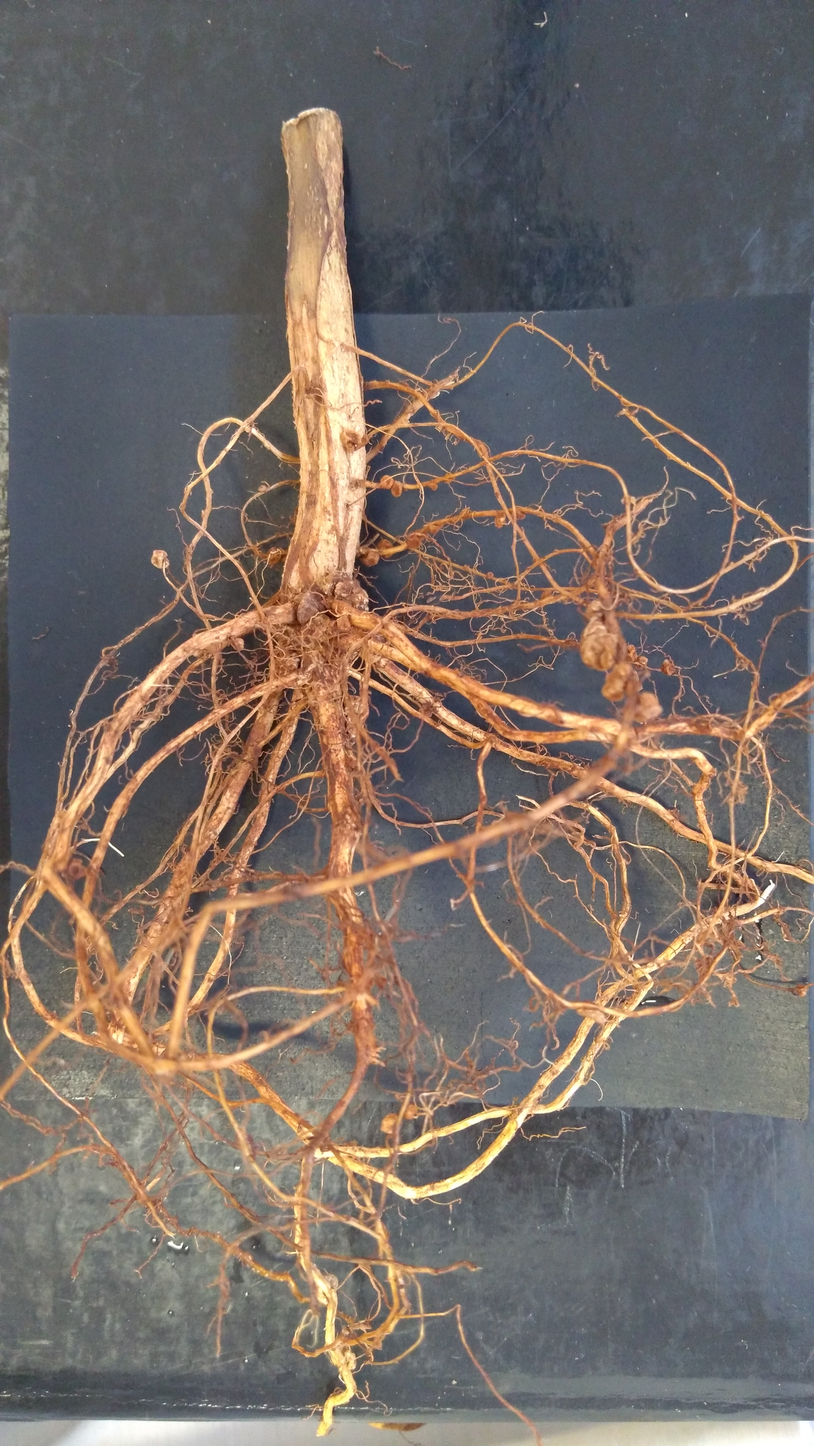nodule: (577, 631, 619, 672), (300, 649, 345, 686), (342, 692, 371, 739), (334, 578, 370, 615), (600, 661, 633, 701), (292, 591, 321, 624), (579, 616, 608, 647), (321, 569, 353, 597), (635, 691, 663, 721), (301, 613, 331, 639), (576, 1000, 607, 1024), (316, 1273, 338, 1304), (582, 599, 604, 624), (154, 1058, 180, 1079), (380, 1112, 403, 1134), (150, 548, 170, 569), (67, 857, 86, 879), (377, 539, 395, 559), (359, 551, 380, 567), (344, 429, 362, 445), (336, 615, 352, 633), (405, 534, 422, 550), (282, 656, 299, 672), (660, 659, 676, 676), (625, 643, 639, 662), (404, 1104, 419, 1121), (390, 480, 404, 498), (423, 522, 444, 534), (344, 1351, 357, 1370), (379, 475, 395, 490), (792, 983, 808, 998), (267, 548, 281, 565), (493, 511, 507, 528), (624, 679, 637, 697), (418, 706, 434, 719), (442, 473, 458, 484), (510, 509, 526, 520), (539, 588, 553, 600), (250, 745, 262, 758), (234, 636, 245, 650), (340, 1343, 351, 1357), (279, 549, 288, 564), (345, 441, 356, 453), (346, 757, 358, 768), (360, 433, 370, 446), (426, 481, 439, 491), (637, 655, 648, 665), (486, 571, 495, 579), (463, 563, 471, 570), (615, 394, 623, 400)
